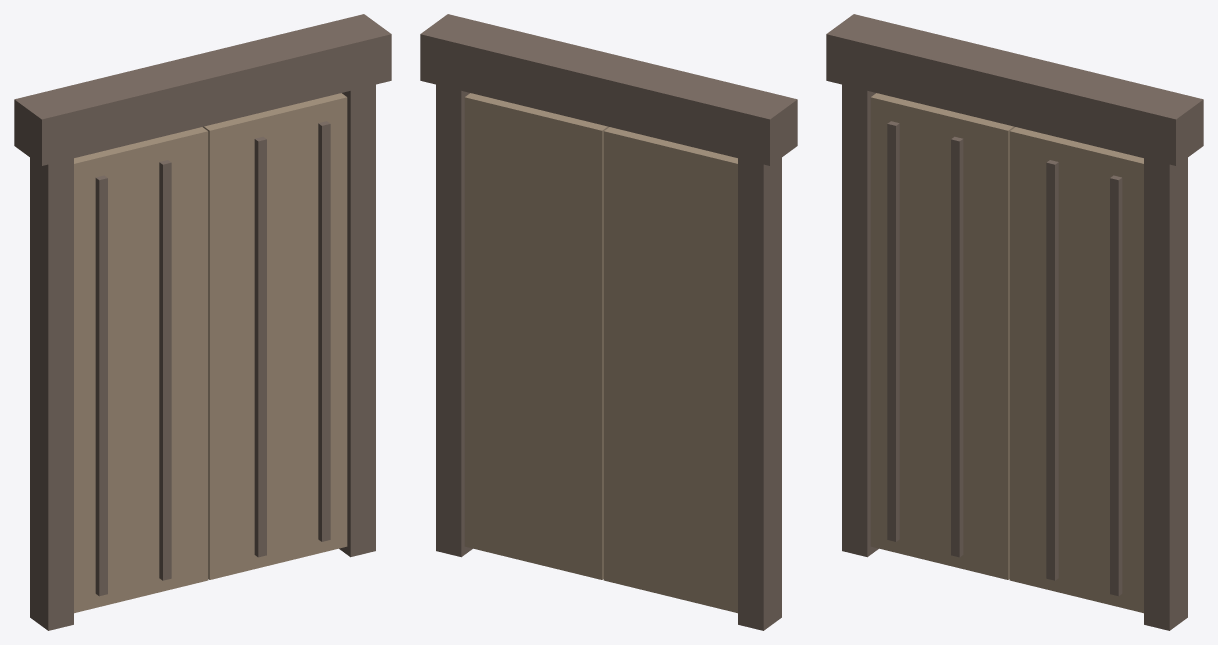
Rendered from porta_madeira_dupla.glb.
3 renders of one model, left to right at view 1: azimuth 30°, elevation 25°; view 2: azimuth 150°, elevation 25°; view 3: azimuth 330°, elevation 25°, orthographic.
Visible parts, largest first — view 1: porta_madeira_dupla_part_004, porta_madeira_dupla_part_003, porta_madeira_dupla_part_002, porta_madeira_dupla_part_000, porta_madeira_dupla_part_001, porta_madeira_dupla_part_006, porta_madeira_dupla_part_005, porta_madeira_dupla_part_007, porta_madeira_dupla_part_008; view 2: porta_madeira_dupla_part_004, porta_madeira_dupla_part_003, porta_madeira_dupla_part_002, porta_madeira_dupla_part_000, porta_madeira_dupla_part_001; view 3: porta_madeira_dupla_part_003, porta_madeira_dupla_part_004, porta_madeira_dupla_part_002, porta_madeira_dupla_part_001, porta_madeira_dupla_part_000, porta_madeira_dupla_part_007, porta_madeira_dupla_part_005, porta_madeira_dupla_part_006, porta_madeira_dupla_part_008.
Part boxes in pixels (left/top/right/bottom): porta_madeira_dupla_part_004: left=203, top=93, right=347, bottom=579; porta_madeira_dupla_part_003: left=74, top=127, right=208, bottom=613; porta_madeira_dupla_part_002: left=14, top=14, right=391, bottom=165; porta_madeira_dupla_part_000: left=30, top=157, right=73, bottom=630; porta_madeira_dupla_part_001: left=339, top=84, right=375, bottom=557; porta_madeira_dupla_part_006: left=159, top=160, right=171, bottom=580; porta_madeira_dupla_part_005: left=95, top=175, right=107, bottom=596; porta_madeira_dupla_part_007: left=254, top=136, right=266, bottom=557; porta_madeira_dupla_part_008: left=318, top=121, right=330, bottom=541; porta_madeira_dupla_part_004: left=464, top=93, right=608, bottom=579; porta_madeira_dupla_part_003: left=603, top=127, right=737, bottom=613; porta_madeira_dupla_part_002: left=420, top=14, right=797, bottom=165; porta_madeira_dupla_part_000: left=738, top=157, right=781, bottom=630; porta_madeira_dupla_part_001: left=436, top=84, right=472, bottom=557; porta_madeira_dupla_part_003: left=870, top=93, right=1014, bottom=579; porta_madeira_dupla_part_004: left=1009, top=127, right=1143, bottom=613; porta_madeira_dupla_part_002: left=826, top=14, right=1203, bottom=165; porta_madeira_dupla_part_001: left=1144, top=157, right=1187, bottom=630; porta_madeira_dupla_part_000: left=842, top=84, right=878, bottom=557; porta_madeira_dupla_part_007: left=1046, top=160, right=1058, bottom=580; porta_madeira_dupla_part_005: left=887, top=121, right=899, bottom=541; porta_madeira_dupla_part_006: left=951, top=136, right=963, bottom=557; porta_madeira_dupla_part_008: left=1110, top=175, right=1122, bottom=596.
Size of the model in its own units: 2.2 by 3.11 by 0.3.
